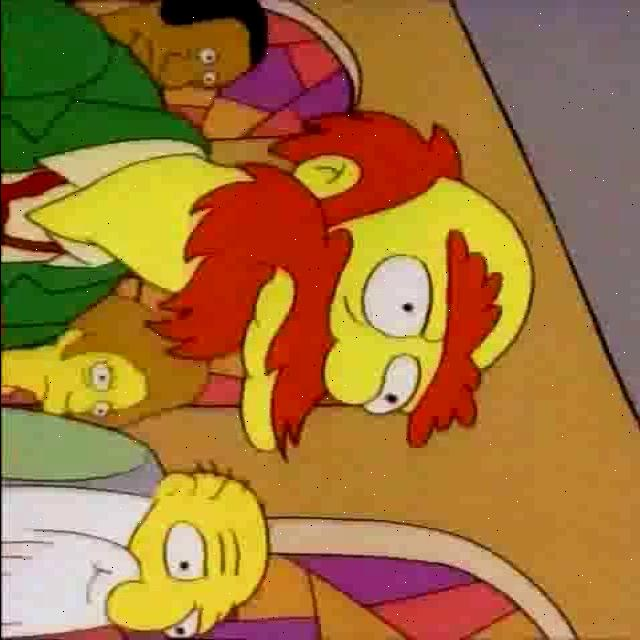Edna Krappel: (11, 298, 202, 428)
Groundskeeper Willie: (148, 110, 532, 450)
